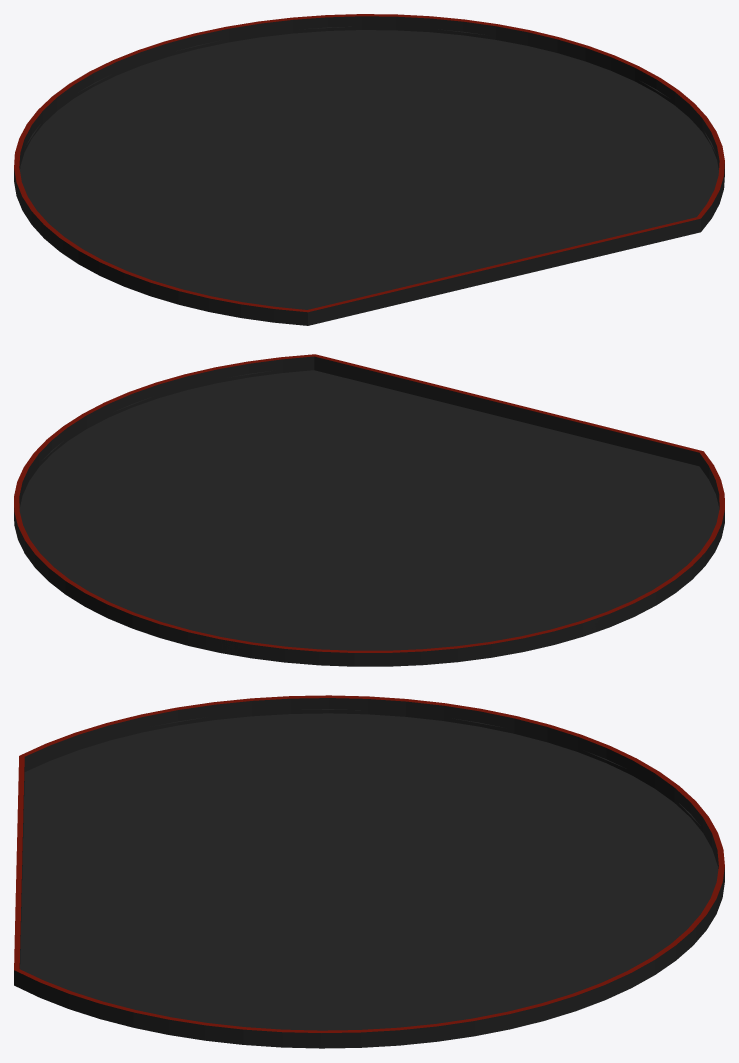
Rendered from tray3.glb.
The picture shows the model from 3 angles, top to bottom: view 1: azimuth 30°, elevation 25°; view 2: azimuth 150°, elevation 25°; view 3: azimuth 270°, elevation 25°; orthographic projection. The views are drawn at different scales.
Parts seen in each view (by area): view 1: お盆; view 2: お盆; view 3: お盆.
Boxes of the visible parts, x1,y1,x2,y2 form: お盆: (14,14,724,325); お盆: (14,354,724,666); お盆: (14,695,724,1048).
Size of the model in its own units: 0.6491 by 0.0138 by 0.5775.
